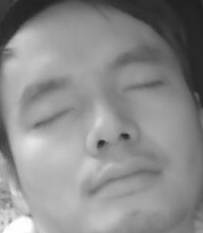blink: (124, 74, 161, 97), (34, 106, 74, 127)
mouth: (89, 157, 167, 199)
